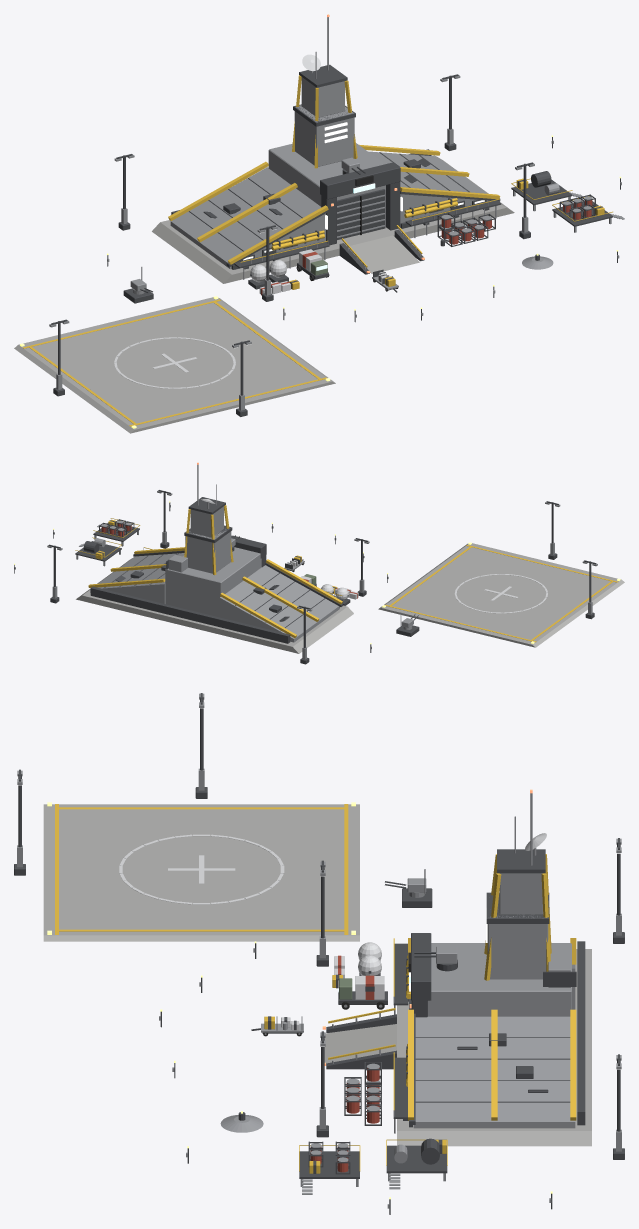
Rendered from Aussenposten.45f3ac9175.glb.
3 renders of one model, top to bottom at view 1: azimuth 30°, elevation 25°; view 2: azimuth 150°, elevation 25°; view 3: azimuth 270°, elevation 25°, orthographic. The views are drawn at different scales.
Parts seen in each view (by area): view 1: Aussenposten; view 2: Aussenposten; view 3: Aussenposten.
Part boxes in pixels (<box>): Aussenposten: <box>14,14,624,433</box>; Aussenposten: <box>14,462,624,664</box>; Aussenposten: <box>14,693,624,1214</box>.
Bounding box in the file's own units: 149 × 43.52 × 90.79.
